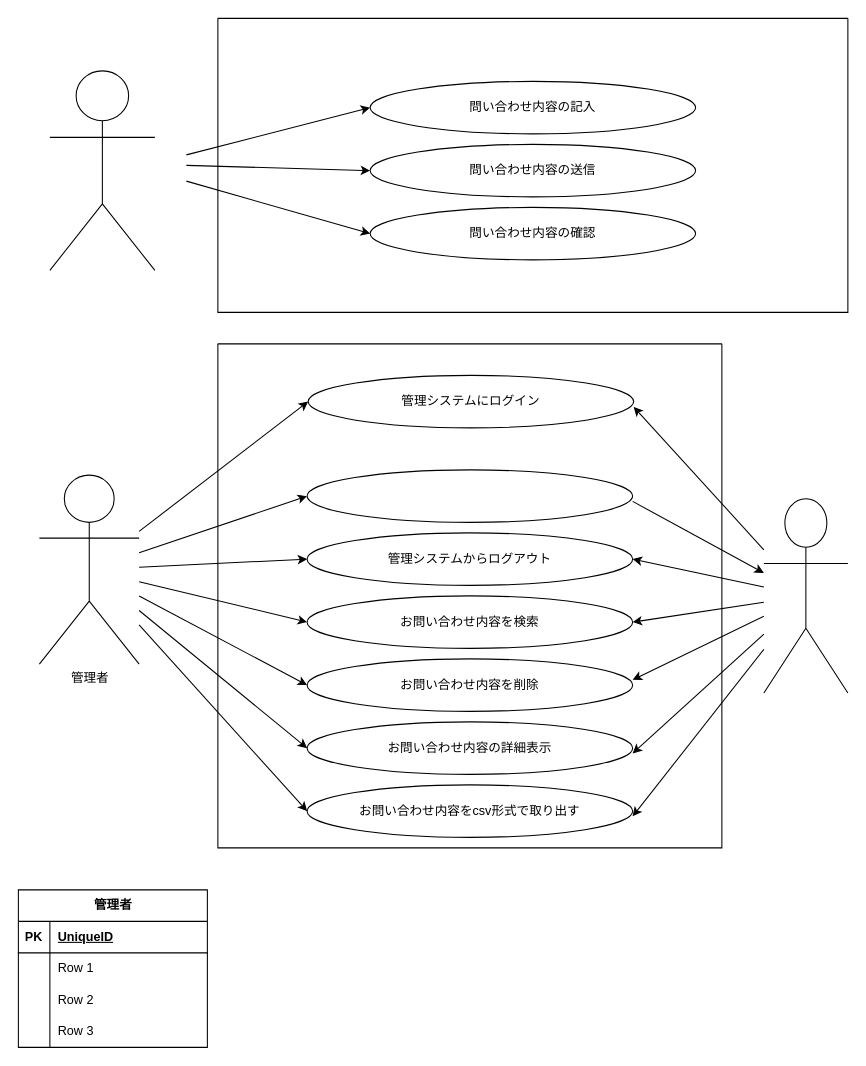
The diagram is 866 pixels wide and 1066 high, and some of its shapes have lost their labels. Each missing label, with the box of its shape:
利用者: (49, 70, 155, 270)
問い合わせ管理システム: (217, 343, 722, 848)
問い合わせ送信システム: (217, 17, 848, 312)
新規ユーザーの作成・登録: (306, 469, 633, 522)
新規管理者: (763, 498, 848, 693)
